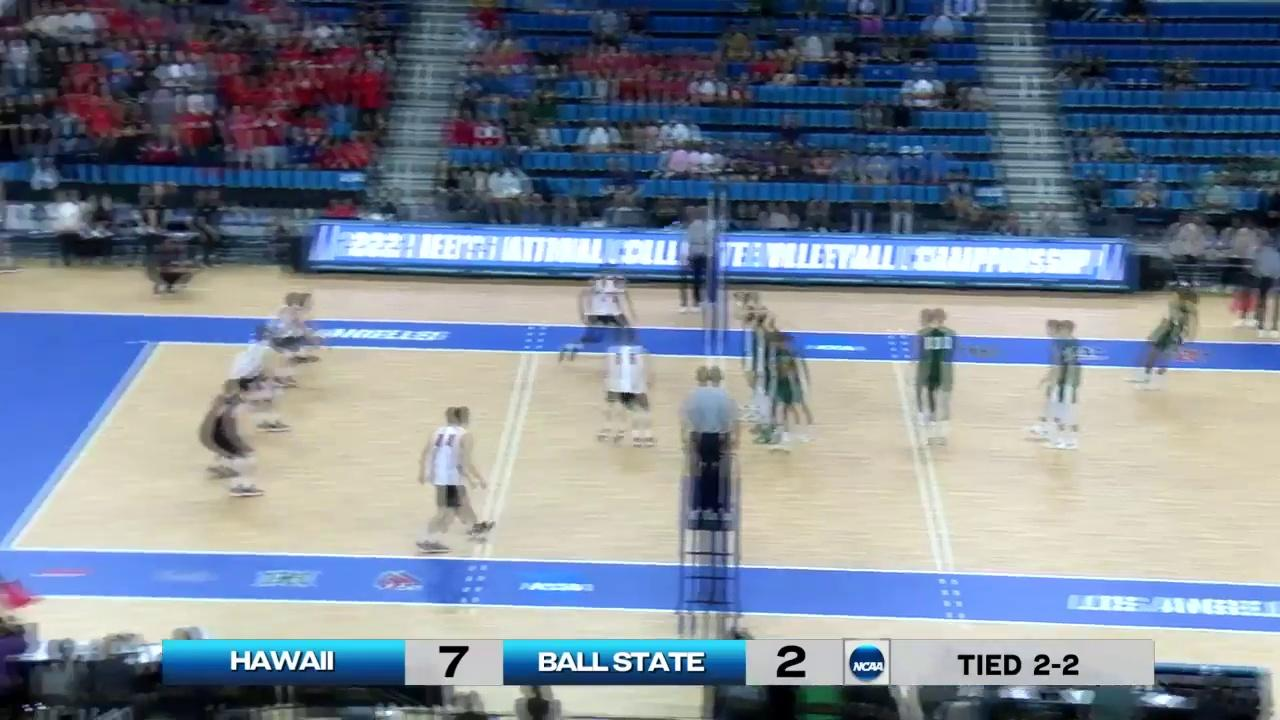player: (415, 406, 486, 549), (199, 369, 276, 497), (226, 329, 305, 430), (1029, 317, 1085, 450), (567, 259, 637, 361), (1132, 288, 1199, 389), (248, 290, 323, 380), (597, 327, 650, 447), (914, 308, 961, 434), (763, 330, 802, 456), (739, 287, 771, 422), (754, 308, 779, 436)
refree: (679, 369, 734, 508), (1239, 234, 1280, 335), (682, 204, 717, 313)
